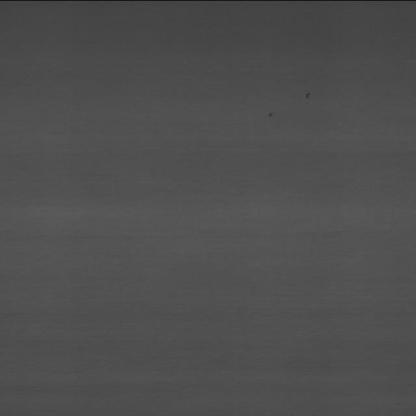inclusion: (251, 105, 294, 121), (294, 86, 321, 106)
